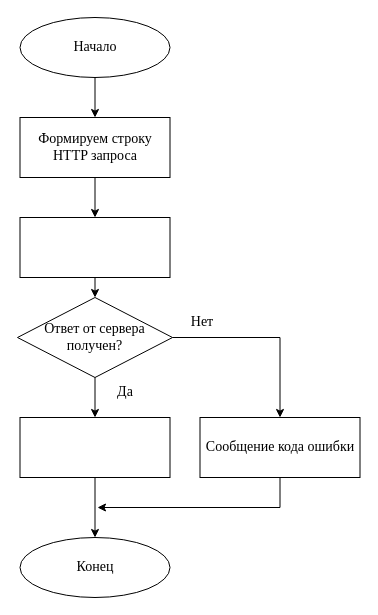
Image size: 378x615. Some labels were removed from this diagram. The shapes that lost their labels are listed below. From the top down, each one's box as (x1, y1, x2, y2) in pixels, then its label:
(19, 216, 170, 278): Формируем заголовок запроса и отправляем
(19, 416, 170, 478): Десериализация и сохранение ответа
